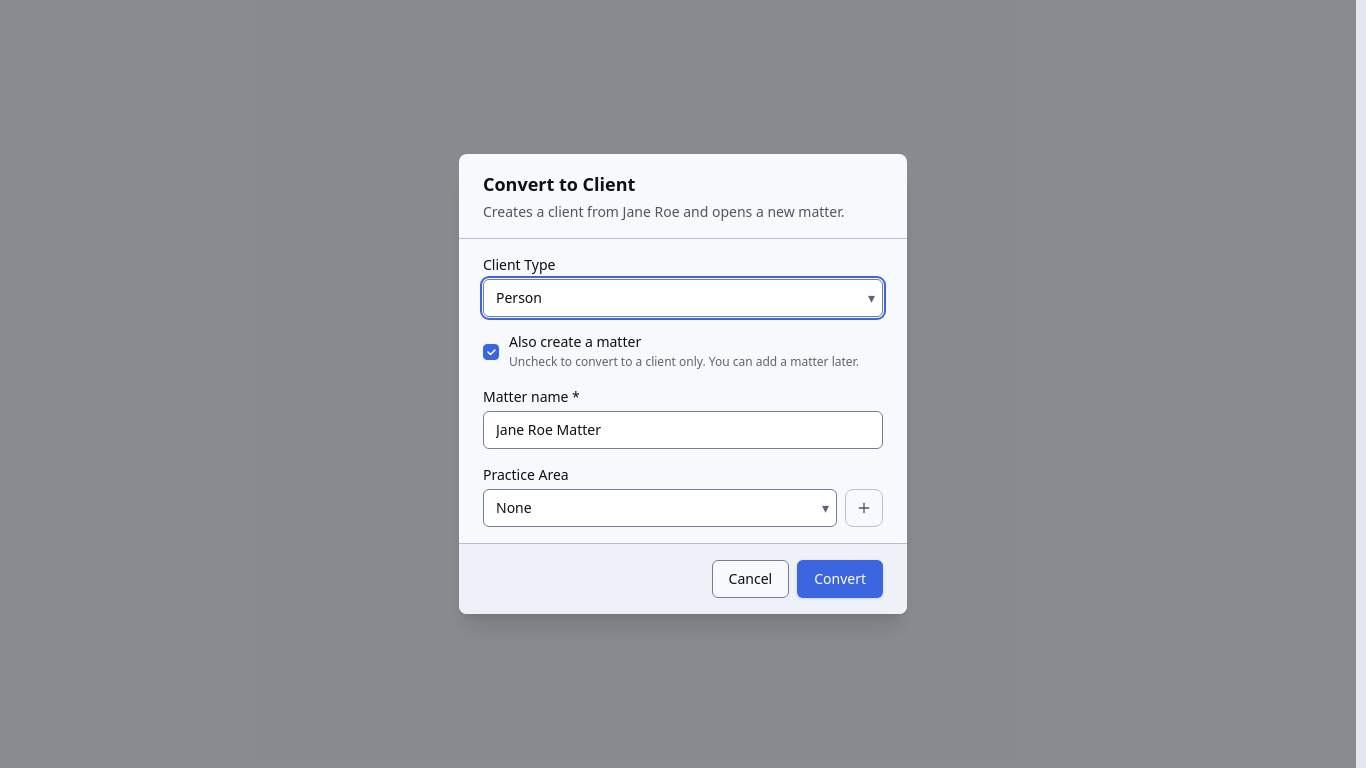
it: offers an Organization client type, never Company
The width and height of the screenshot is (1366, 768).
Click the button named "Client Type" at (519, 298), box left=483, top=279, right=883, bottom=317
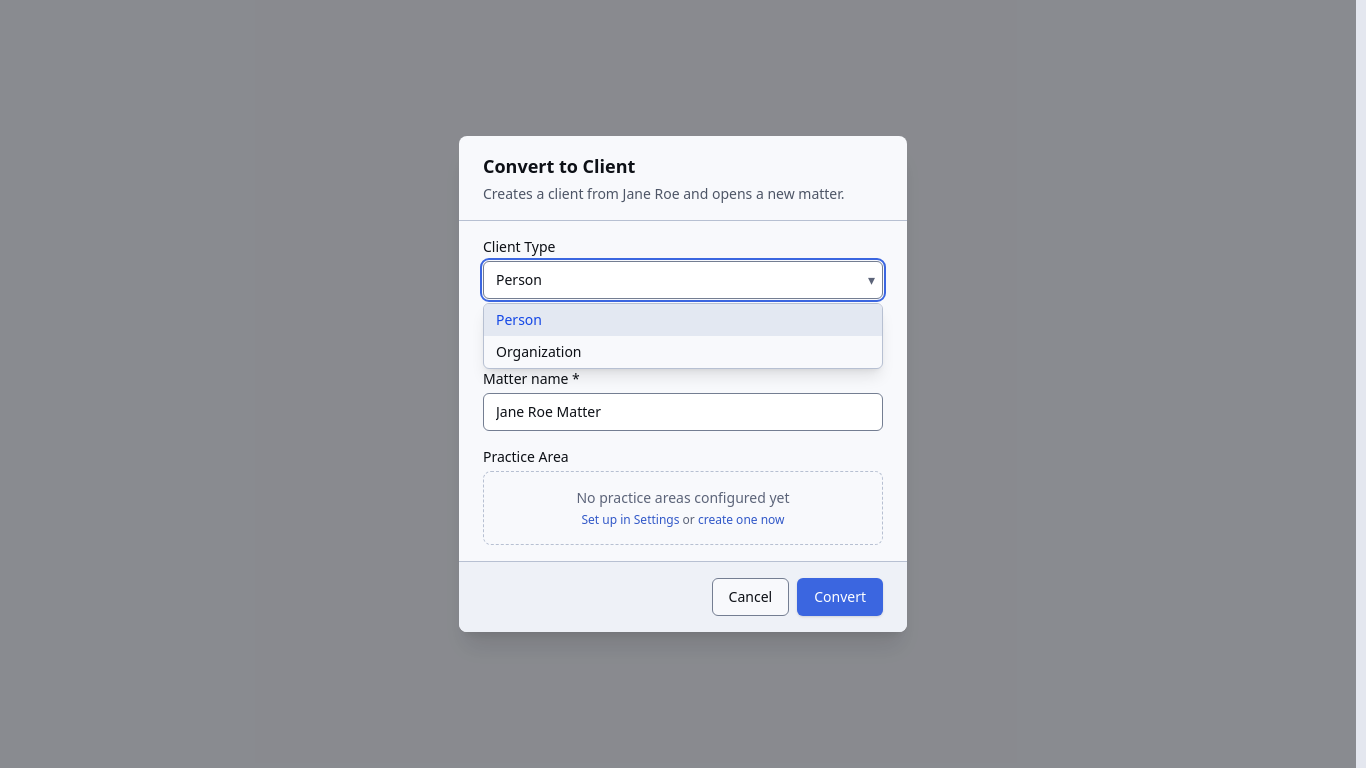
Check: the option "Organization" is shown, box left=496, top=342, right=582, bottom=361
